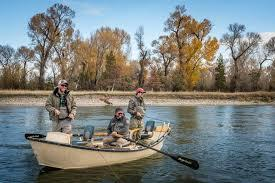fishing boat: (23, 78, 202, 175)
